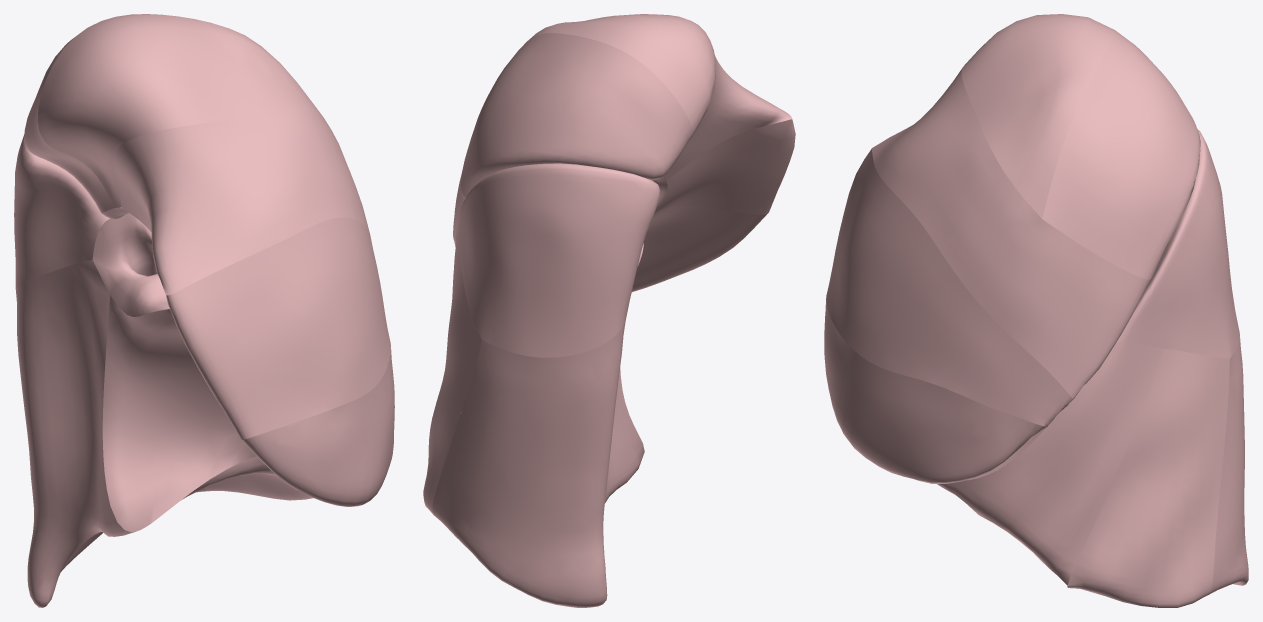
The model's file is left-lung.glb.
3 renders of one model, left to right at view 1: azimuth 30°, elevation 25°; view 2: azimuth 150°, elevation 25°; view 3: azimuth 270°, elevation 25°, orthographic. The views are drawn at different scales.
Parts seen in each view (by area): view 1: VH_F_lingula_superior_bronchopulmonary_segment, VH_F_left_anterior_bronchopulmonary_segment, VH_F_left_apical_bronchopulmonary_segment, VH_F_left_posterior_basal_bronchopulmonary_segment, VH_F_left_medial_basal_bronchopulmonary_segment, VH_F_lingula_inferior_bronchopulmonary_segment, VH_F_left_superior_bronchopulmonary_segment, VH_F_hilum_L, VH_F_hilum_lower_L, VH_F_left_posterior_bronchopulmonary_segment, VH_F_left_lateral_basal_bronchopulmonary_segment, VH_F_left_anterior_basal_bronchopulmonary_segment; view 2: VH_F_left_posterior_basal_bronchopulmonary_segment, VH_F_left_superior_bronchopulmonary_segment, VH_F_left_posterior_bronchopulmonary_segment, VH_F_lingula_superior_bronchopulmonary_segment, VH_F_left_apical_bronchopulmonary_segment, VH_F_lingula_inferior_bronchopulmonary_segment, VH_F_left_lateral_basal_bronchopulmonary_segment, VH_F_left_anterior_bronchopulmonary_segment; view 3: VH_F_left_anterior_bronchopulmonary_segment, VH_F_lingula_superior_bronchopulmonary_segment, VH_F_left_lateral_basal_bronchopulmonary_segment, VH_F_left_posterior_bronchopulmonary_segment, VH_F_left_anterior_basal_bronchopulmonary_segment, VH_F_lingula_inferior_bronchopulmonary_segment, VH_F_left_apical_bronchopulmonary_segment, VH_F_left_superior_bronchopulmonary_segment, VH_F_left_posterior_basal_bronchopulmonary_segment.
Boxes of the visible parts, bbox=[...] form: VH_F_lingula_superior_bronchopulmonary_segment: bbox=[166, 217, 390, 439]; VH_F_left_anterior_bronchopulmonary_segment: bbox=[113, 108, 369, 295]; VH_F_left_apical_bronchopulmonary_segment: bbox=[37, 14, 322, 207]; VH_F_left_posterior_basal_bronchopulmonary_segment: bbox=[15, 260, 209, 607]; VH_F_left_medial_basal_bronchopulmonary_segment: bbox=[102, 295, 256, 531]; VH_F_lingula_inferior_bronchopulmonary_segment: bbox=[242, 350, 394, 506]; VH_F_left_superior_bronchopulmonary_segment: bbox=[14, 133, 109, 287]; VH_F_hilum_L: bbox=[92, 207, 168, 314]; VH_F_hilum_lower_L: bbox=[93, 215, 169, 316]; VH_F_left_posterior_bronchopulmonary_segment: bbox=[24, 38, 113, 213]; VH_F_left_lateral_basal_bronchopulmonary_segment: bbox=[204, 473, 312, 500]; VH_F_left_anterior_basal_bronchopulmonary_segment: bbox=[182, 456, 276, 499]; VH_F_left_posterior_basal_bronchopulmonary_segment: bbox=[432, 321, 644, 607]; VH_F_left_superior_bronchopulmonary_segment: bbox=[457, 163, 659, 357]; VH_F_left_posterior_bronchopulmonary_segment: bbox=[461, 33, 692, 196]; VH_F_lingula_superior_bronchopulmonary_segment: bbox=[656, 119, 795, 214]; VH_F_left_apical_bronchopulmonary_segment: bbox=[529, 14, 715, 135]; VH_F_lingula_inferior_bronchopulmonary_segment: bbox=[632, 206, 767, 291]; VH_F_left_lateral_basal_bronchopulmonary_segment: bbox=[423, 269, 481, 514]; VH_F_left_anterior_bronchopulmonary_segment: bbox=[453, 55, 791, 246]; VH_F_left_anterior_bronchopulmonary_segment: bbox=[871, 68, 1151, 398]; VH_F_lingula_superior_bronchopulmonary_segment: bbox=[826, 148, 1073, 426]; VH_F_left_lateral_basal_bronchopulmonary_segment: bbox=[1067, 348, 1229, 607]; VH_F_left_posterior_bronchopulmonary_segment: bbox=[1042, 30, 1200, 279]; VH_F_left_anterior_basal_bronchopulmonary_segment: bbox=[937, 341, 1162, 586]; VH_F_lingula_inferior_bronchopulmonary_segment: bbox=[824, 298, 1046, 483]; VH_F_left_apical_bronchopulmonary_segment: bbox=[961, 14, 1114, 218]; VH_F_left_superior_bronchopulmonary_segment: bbox=[1116, 129, 1239, 358]; VH_F_left_posterior_basal_bronchopulmonary_segment: bbox=[1210, 338, 1248, 593].
Bounding box in the file's own units: 0.3527 × 0.7105 × 0.4861.
